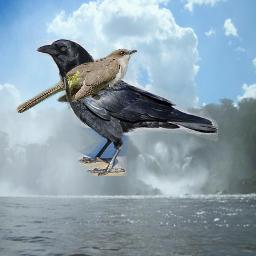Crow: (36, 39, 218, 176)
Cuckoo: (15, 48, 137, 113)
